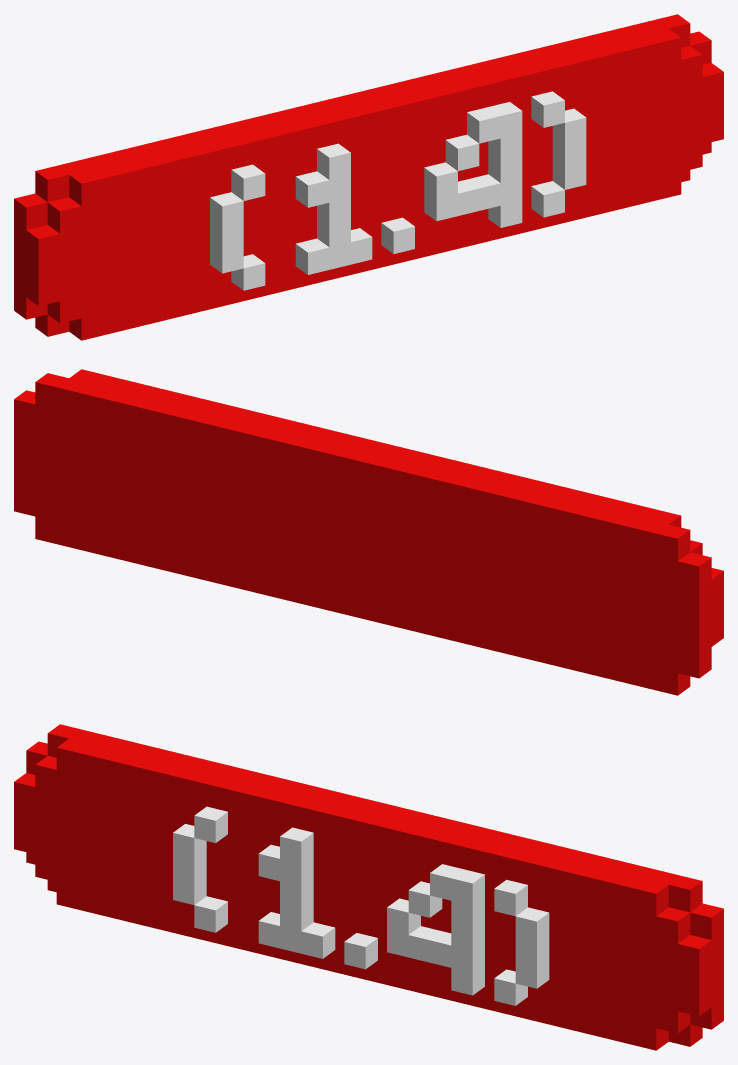
Rendered from lvl1.4.obj.
3 views of the same model, one above another, from view 1: azimuth 30°, elevation 25°; view 2: azimuth 150°, elevation 25°; view 3: azimuth 330°, elevation 25° (orthographic).
Visible parts, largest first — view 1: lvl1.4; view 2: lvl1.4; view 3: lvl1.4.
Boxes of the visible parts, <box> form: lvl1.4: <box>14,14,723,340</box>; lvl1.4: <box>14,369,723,695</box>; lvl1.4: <box>14,724,723,1050</box>.
Size of the model in its own units: 32 by 7 by 3.
Materials: 1 (1 with a texture image).
